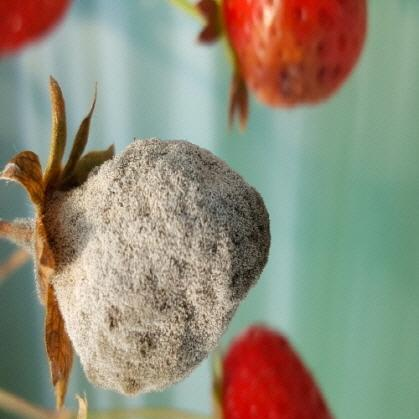Gray Mold: (3, 74, 272, 413)
